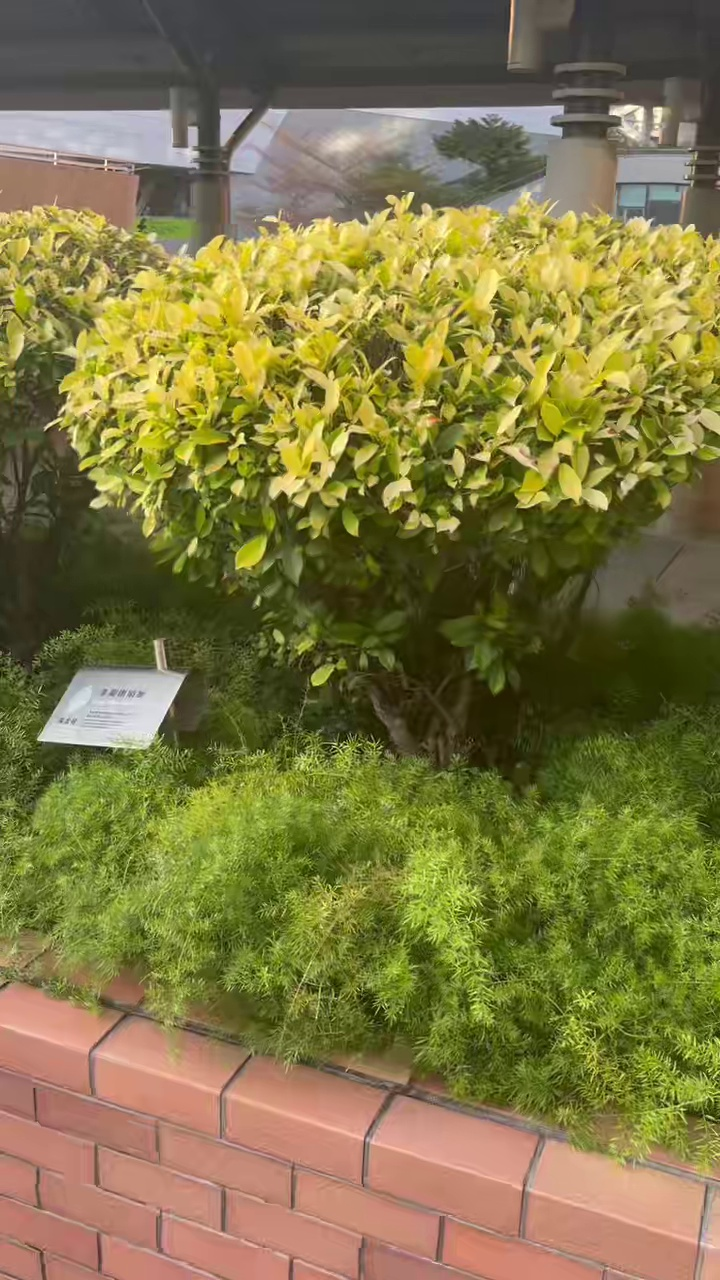Golden-leaves Fig: (60, 197, 719, 762)
